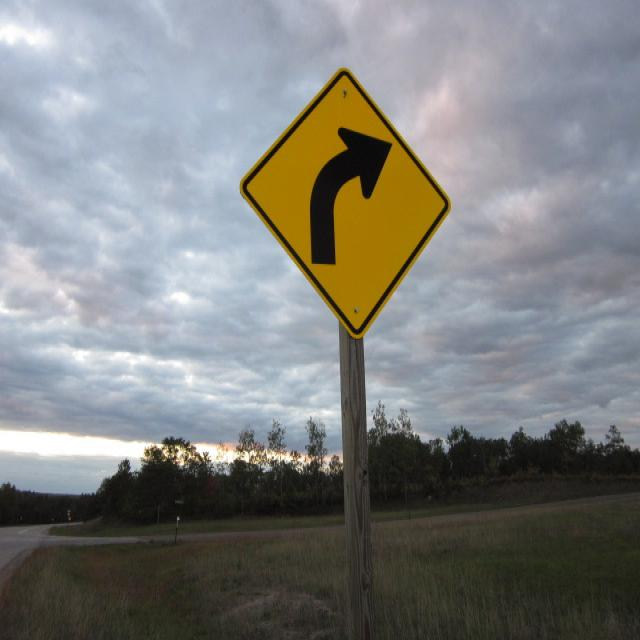warning: (237, 65, 454, 342)
